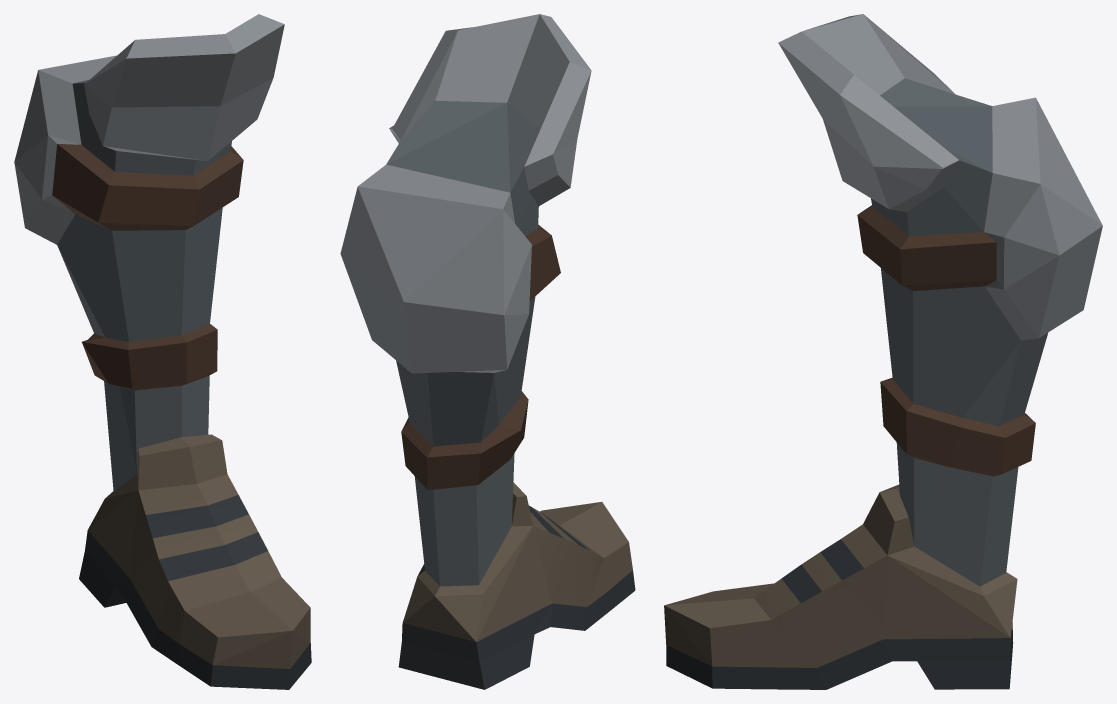
The model's file is Chr_LegRight_Female_10_Static.fbx.
3 views of the same model, side by side, from view 1: azimuth 30°, elevation 25°; view 2: azimuth 150°, elevation 25°; view 3: azimuth 270°, elevation 25° (orthographic). The views are drawn at different scales.
Visible parts, largest first — view 1: Chr_LegRight_Female_10_Static; view 2: Chr_LegRight_Female_10_Static; view 3: Chr_LegRight_Female_10_Static.
Boxes of the visible parts, x1,y1,x2,y2 form: Chr_LegRight_Female_10_Static: (14,14,311,689); Chr_LegRight_Female_10_Static: (340,14,635,689); Chr_LegRight_Female_10_Static: (664,14,1102,689).
Size of the model in its own units: 0.1364 by 0.4546 by 0.2848.
